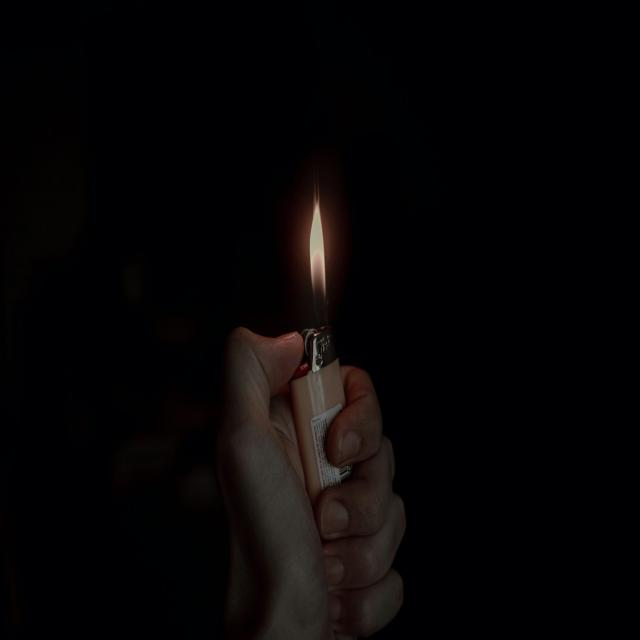fire: (310, 184, 326, 303)
